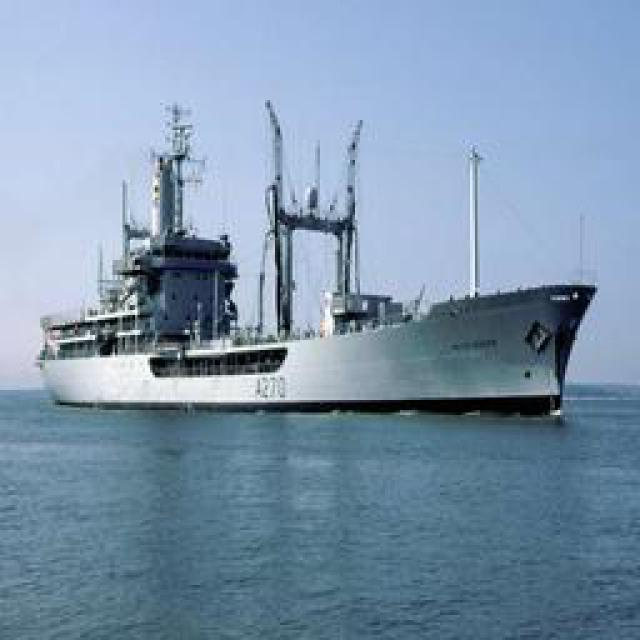Ship: (42, 95, 595, 410)
